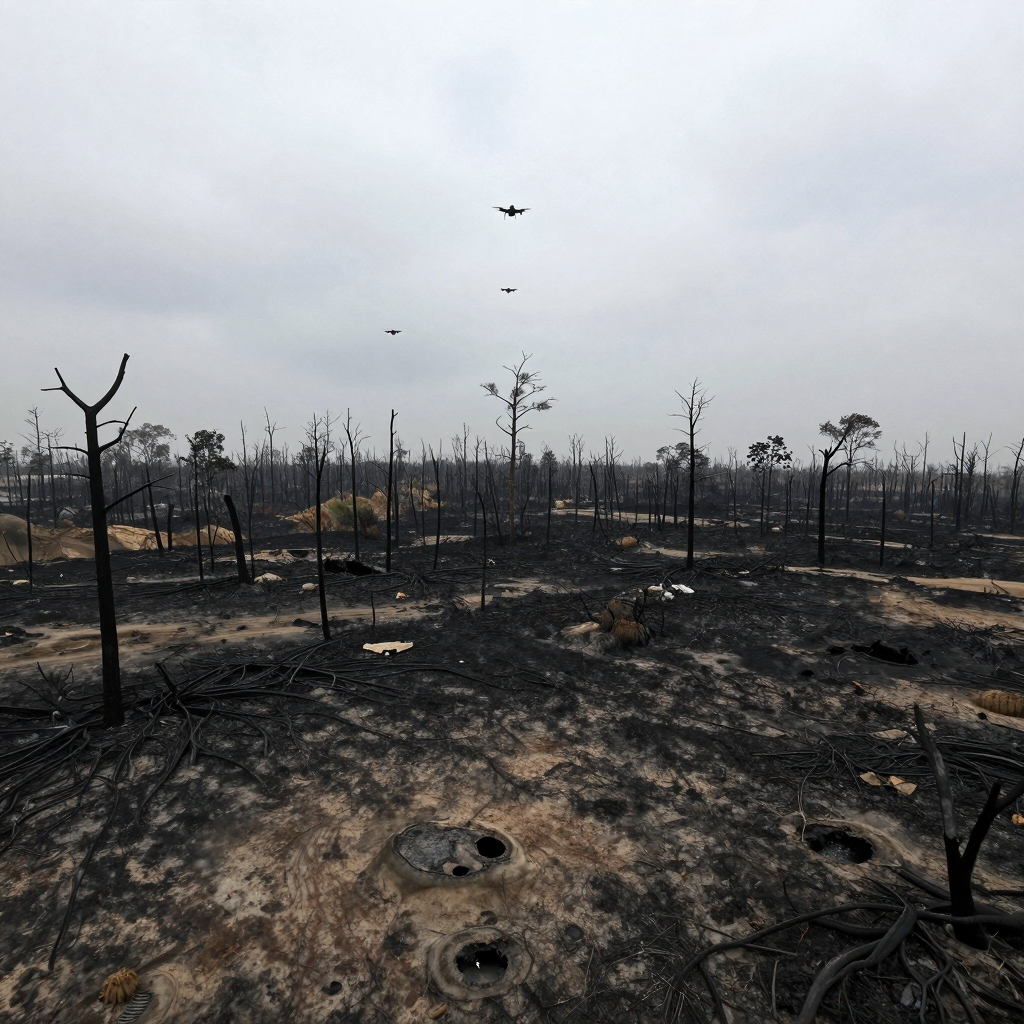drone: (492, 205, 531, 220), (384, 329, 402, 336), (501, 288, 518, 294)
